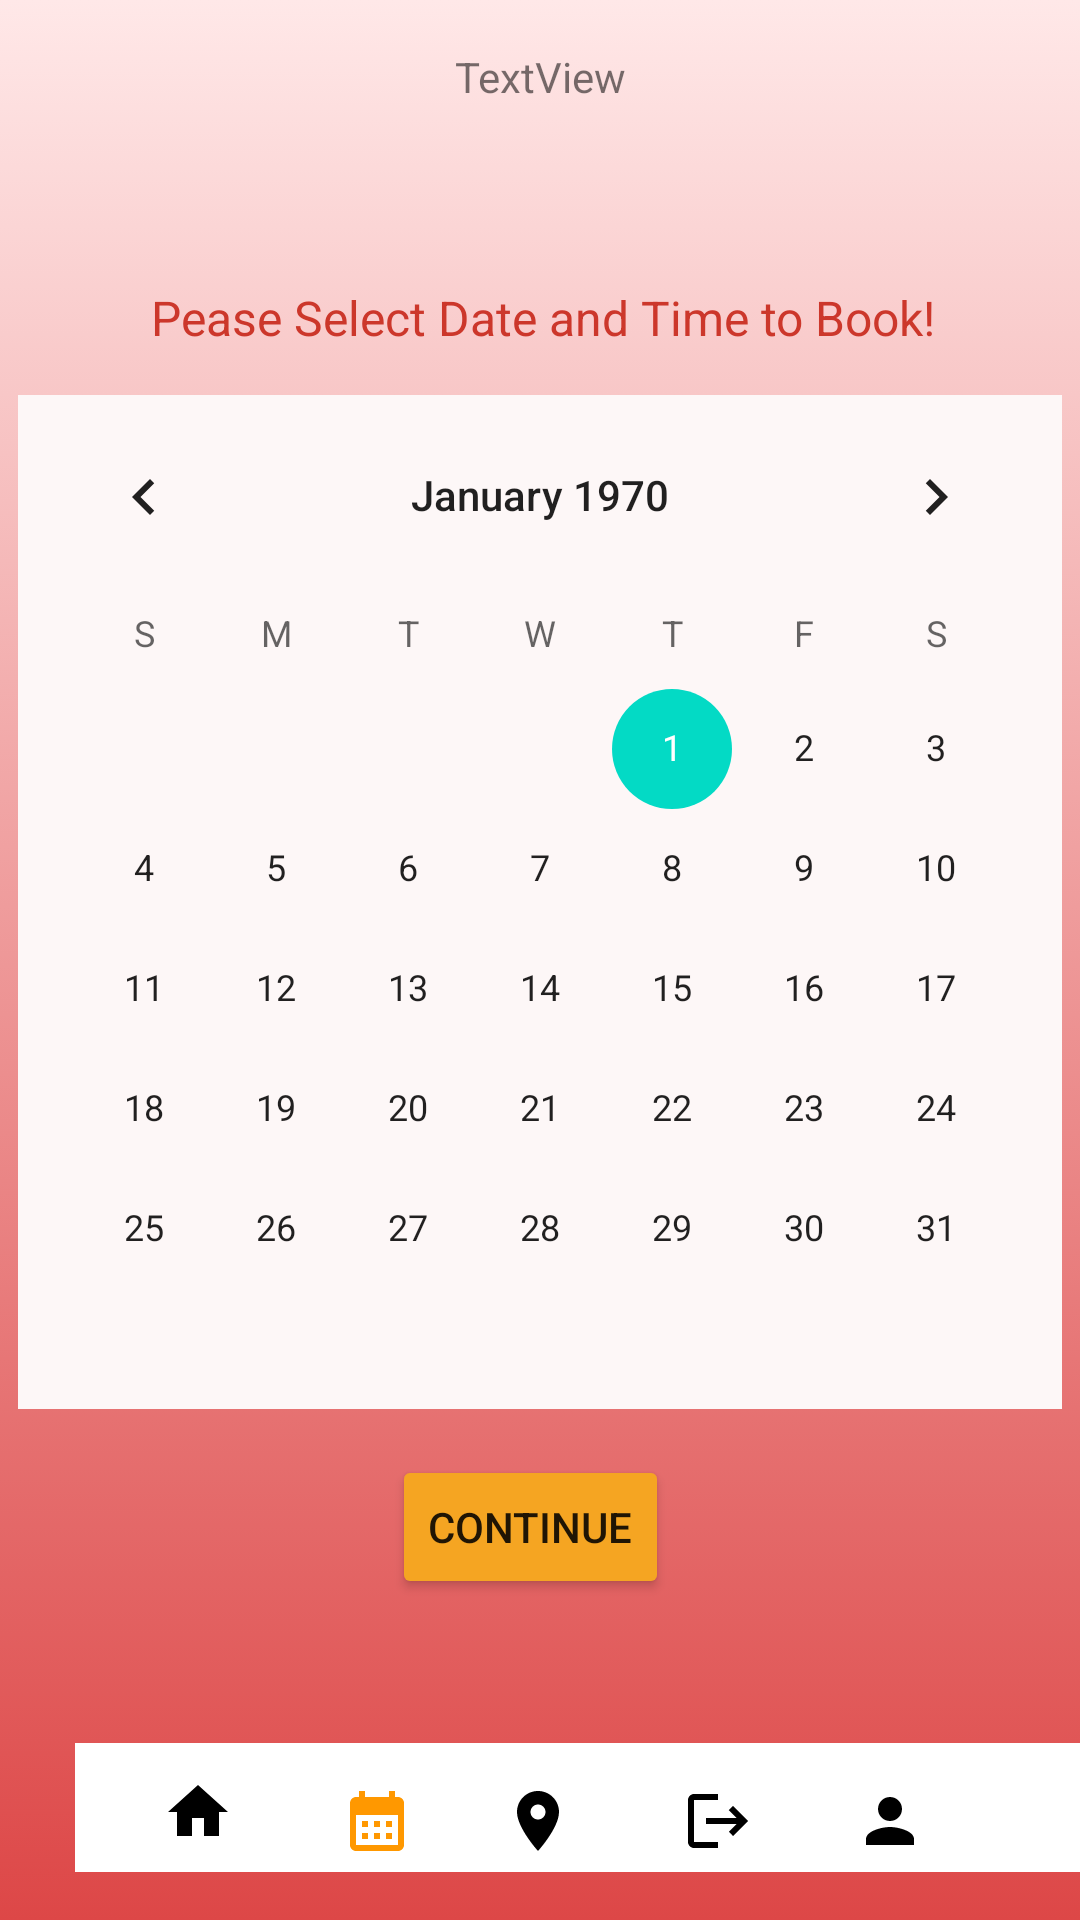

Screen size 1080 × 1920. Icon name, then its box in pixels as [x1, y1, x2, y2]:
calendar month: [350, 1791, 404, 1851]
home: [168, 1785, 228, 1836]
location on: [517, 1791, 559, 1851]
person: [866, 1797, 914, 1845]
